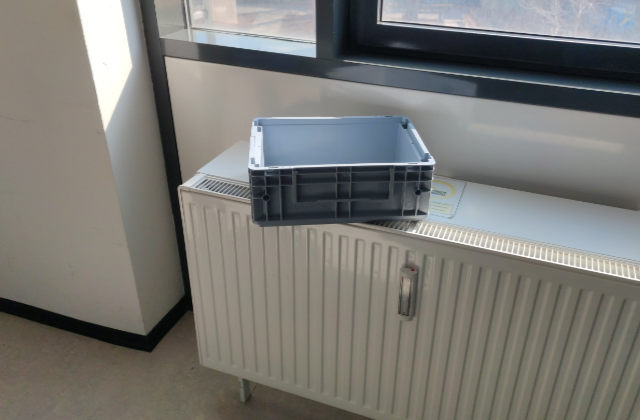Box: (246, 115, 435, 227)
